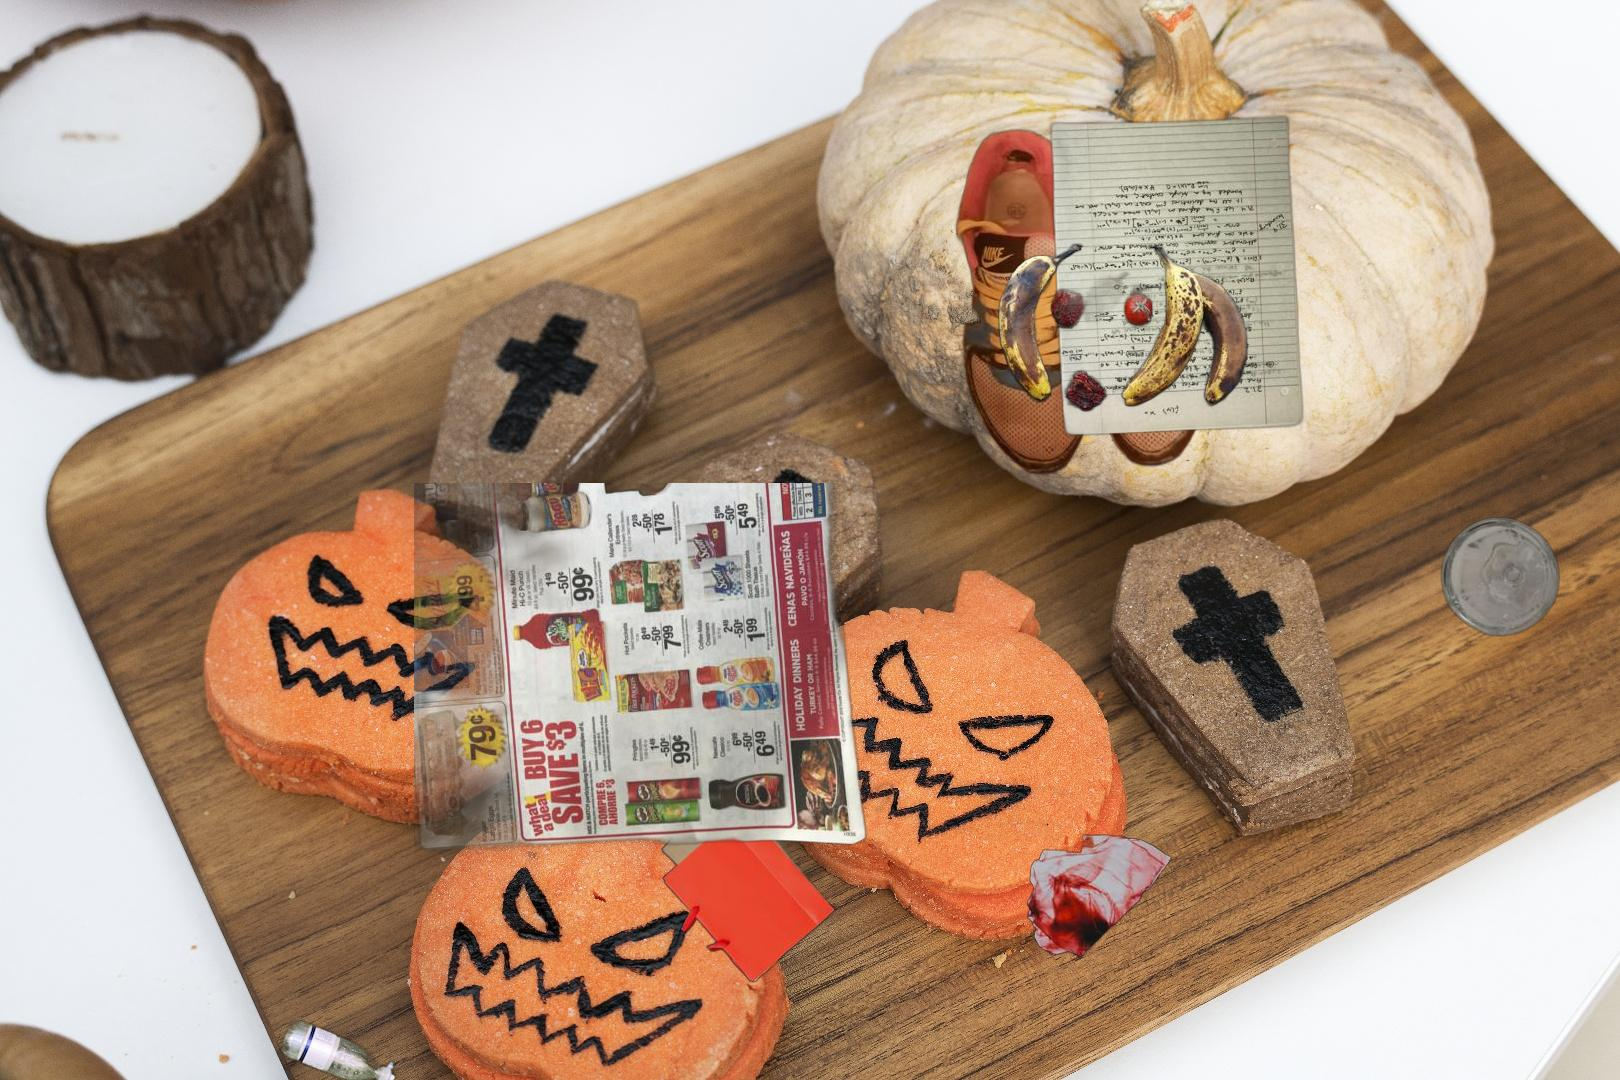biological: (994, 240, 1251, 413)
glass: (1437, 513, 1565, 639)
paper: (413, 483, 870, 867), (1045, 112, 1308, 438)
paper-bag: (661, 702, 931, 985)
plastic-bag: (925, 768, 1174, 959)
plastic-bottles: (276, 1014, 400, 1080)
shoes: (952, 125, 1216, 479)
